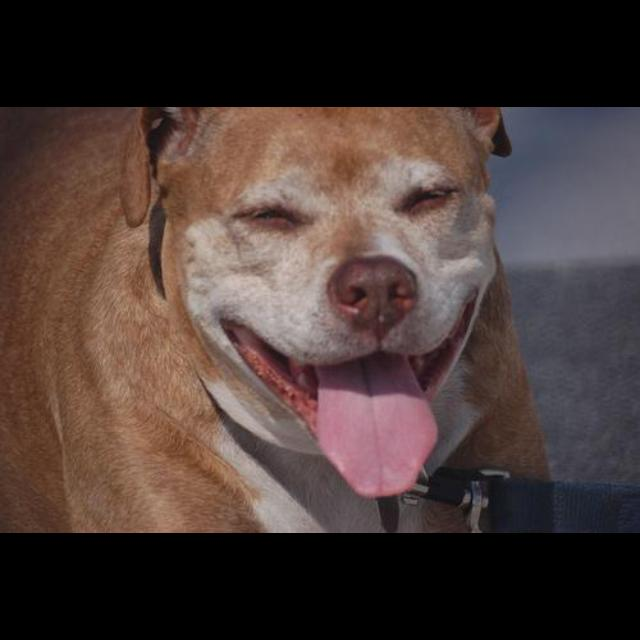amstaff: (2, 108, 557, 532)
